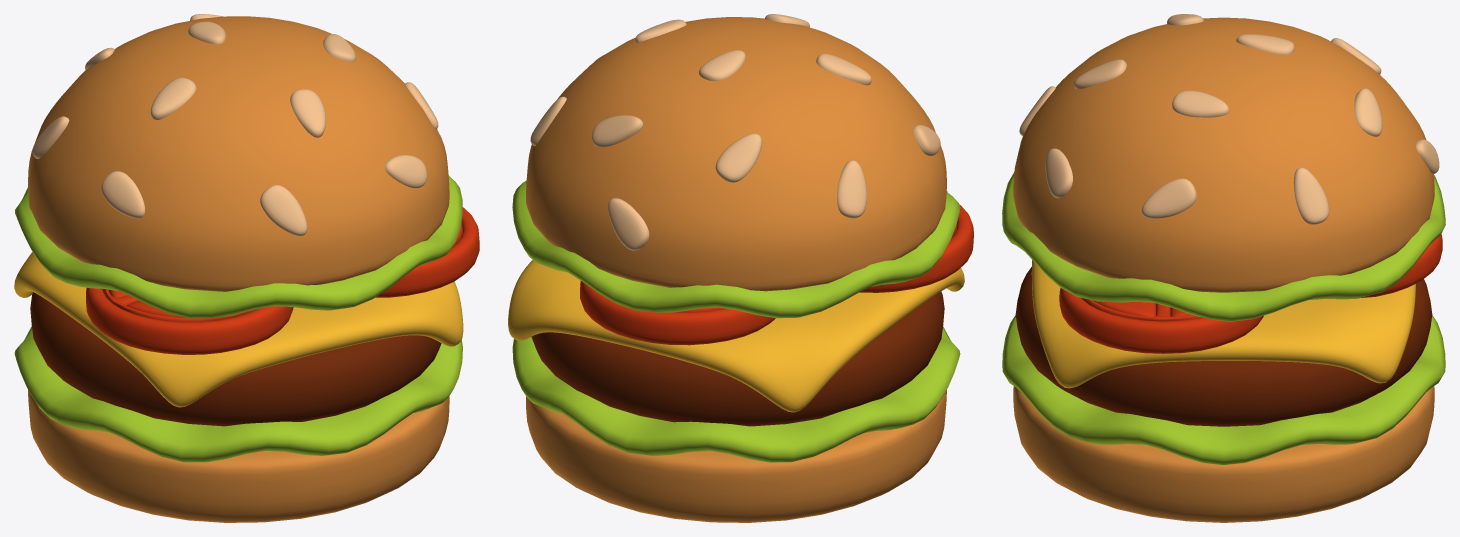
Rendered from Hamburger.fbx.
3 renders of one model, left to right at view 1: azimuth 30°, elevation 25°; view 2: azimuth 150°, elevation 25°; view 3: azimuth 270°, elevation 25°, orthographic.
Visible parts, largest first — view 1: BurgerBun_Top, BurgerBun_Bottom, BurgerPatty, BurgerLettuceLeaf_01, BurgerCheeseSlice, BurgerLettuceLeaf_02, BurgerBunSeeds, BurgerSlicedTom_02, BurgerSlicedTom_03; view 2: BurgerBun_Top, BurgerBun_Bottom, BurgerPatty, BurgerCheeseSlice, BurgerLettuceLeaf_01, BurgerLettuceLeaf_02, BurgerBunSeeds, BurgerSlicedTom_01, BurgerSlicedTom_02; view 3: BurgerBun_Top, BurgerBun_Bottom, BurgerPatty, BurgerCheeseSlice, BurgerLettuceLeaf_01, BurgerLettuceLeaf_02, BurgerBunSeeds, BurgerSlicedTom_03, BurgerSlicedTom_01.
Part boxes in pixels (x1,y1,x2,y2): BurgerBun_Top: (28, 16, 449, 291); BurgerBun_Bottom: (28, 390, 449, 522); BurgerPatty: (30, 292, 441, 426); BurgerLettuceLeaf_01: (14, 326, 462, 462); BurgerCheeseSlice: (14, 252, 463, 407); BurgerLettuceLeaf_02: (15, 175, 462, 318); BurgerBunSeeds: (32, 14, 438, 236); BurgerSlicedTom_02: (86, 288, 293, 354); BurgerSlicedTom_03: (375, 207, 479, 297); BurgerBun_Top: (526, 17, 946, 291); BurgerBun_Bottom: (526, 390, 946, 522); BurgerPatty: (531, 291, 944, 426); BurgerCheeseSlice: (508, 260, 964, 412); BurgerLettuceLeaf_01: (512, 326, 960, 462); BurgerLettuceLeaf_02: (512, 180, 960, 318); BurgerBunSeeds: (530, 14, 940, 250); BurgerSlicedTom_01: (580, 281, 775, 345); BurgerSlicedTom_02: (859, 205, 973, 292); BurgerBun_Top: (1013, 17, 1434, 292); BurgerBun_Bottom: (1013, 386, 1434, 522); BurgerPatty: (1015, 267, 1432, 426); BurgerCheeseSlice: (1031, 260, 1415, 388); BurgerLettuceLeaf_01: (1002, 315, 1445, 465); BurgerLettuceLeaf_02: (1002, 172, 1445, 321); BurgerBunSeeds: (1019, 14, 1439, 224); BurgerSlicedTom_03: (1059, 288, 1263, 353); BurgerSlicedTom_01: (1361, 234, 1442, 297).
Bounding box in the file's own units: 192 × 191 × 190.
